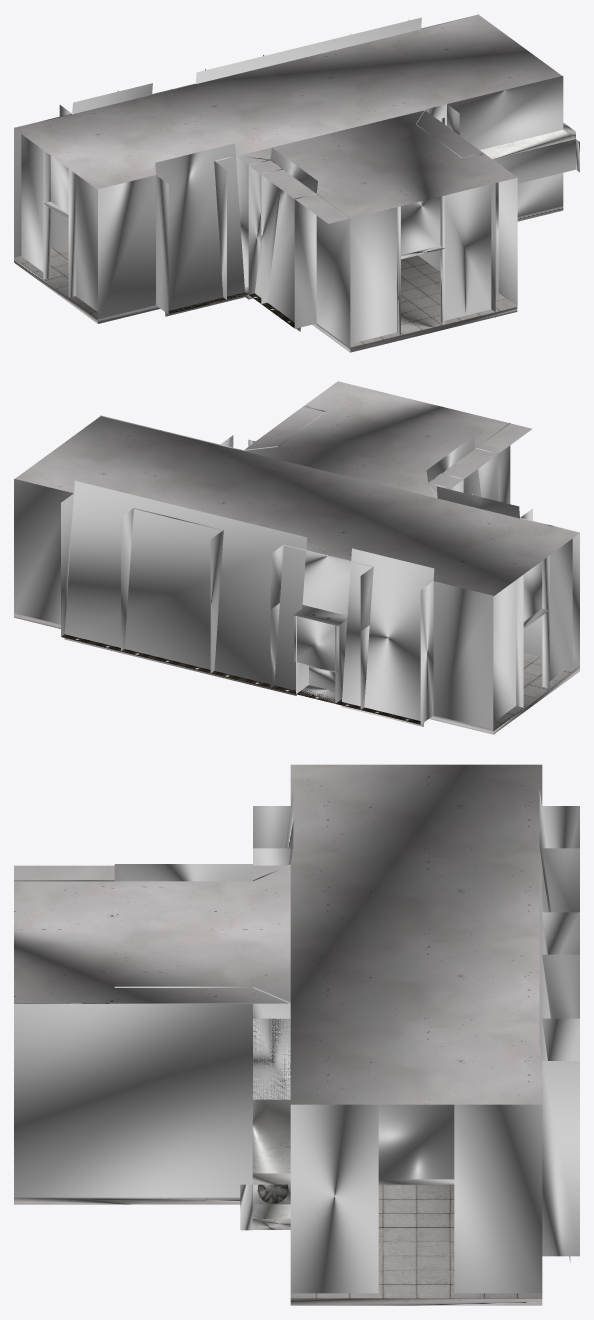
Rendered from room3_3_opt.obj.
The picture shows the model from 3 angles, top to bottom: view 1: azimuth 30°, elevation 25°; view 2: azimuth 150°, elevation 25°; view 3: azimuth 270°, elevation 25°; orthographic projection. The views are drawn at different scales.
Bounding box in the file's own units: 102 × 31.01 × 72.
